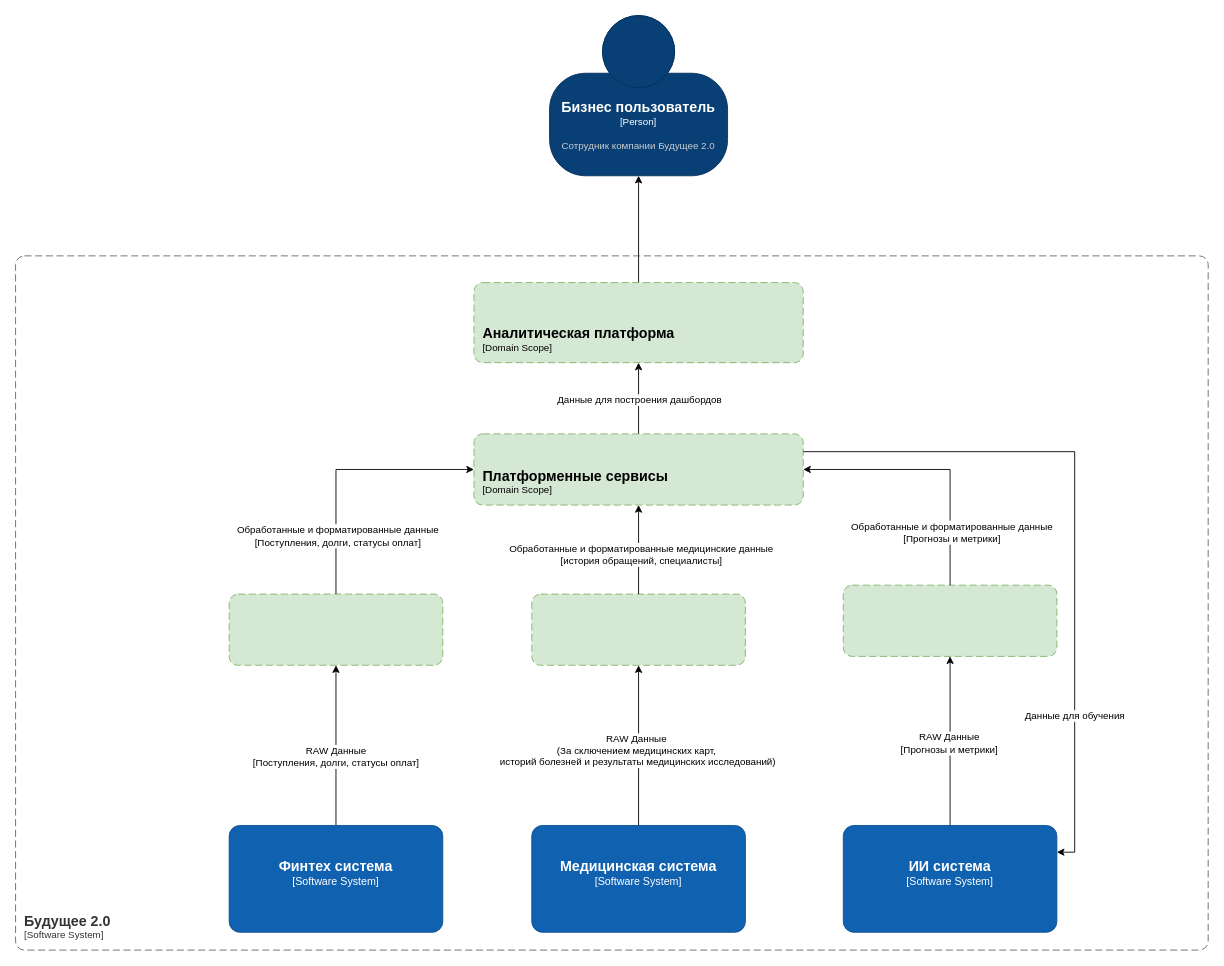
This 1224x966 diagram has some shape labels left out. The centre of each missing label's shape, as x and y in pixels:
"ИИ [Domain Scope]" goes at (x=949, y=620).
"Медицина [Domain Scope]" goes at (x=638, y=629).
"Финтех [Domain Scope]" goes at (x=335, y=629).
